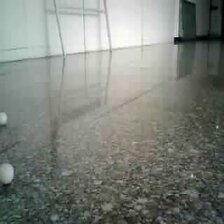tennis: (4, 130, 32, 170), (76, 81, 94, 104)
